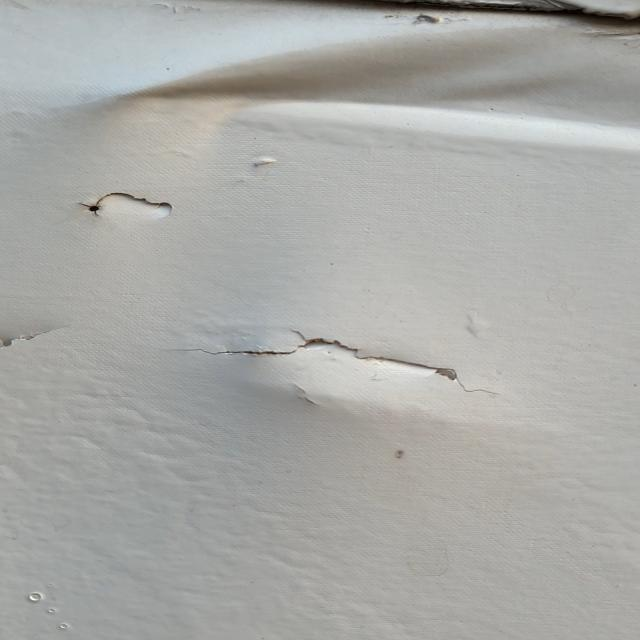Dents or Deformation: (103, 1, 640, 150)
Scratches: (169, 325, 544, 401), (1, 315, 82, 359), (75, 192, 179, 226)
